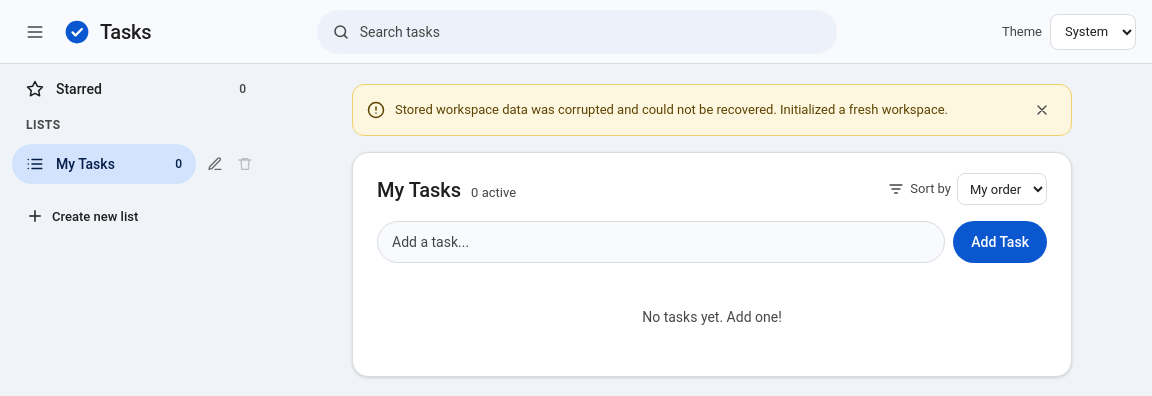
it: App Google Tasks core workflows › recovers from corrupted storage JSON with a dismissible alert banner
The image size is (1152, 396).
Expected: the message shows "corrupted", [395, 102, 948, 117]
Expected: the text "No tasks yet. Add one!" is shown, [642, 309, 782, 325]
Click the button named "Dismiss storage warning" at (1042, 110), box [1027, 95, 1057, 125]
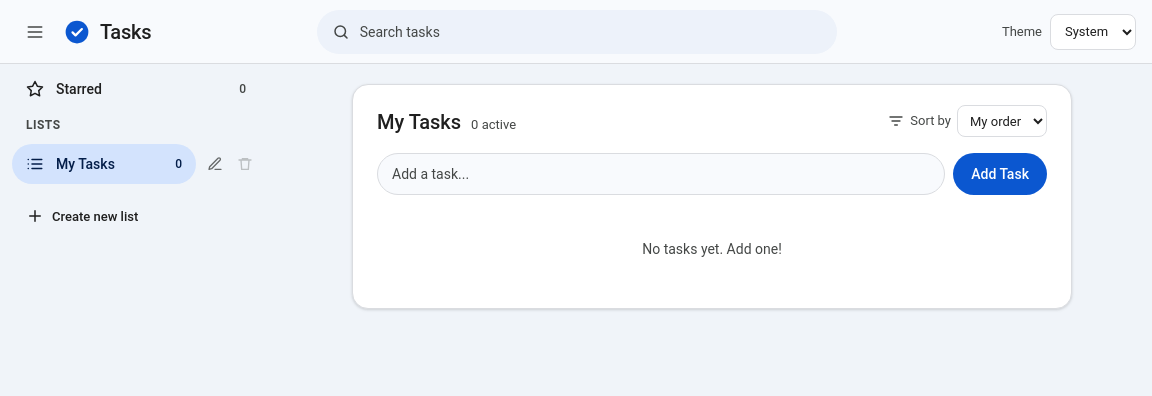
Expected: the message is gone
